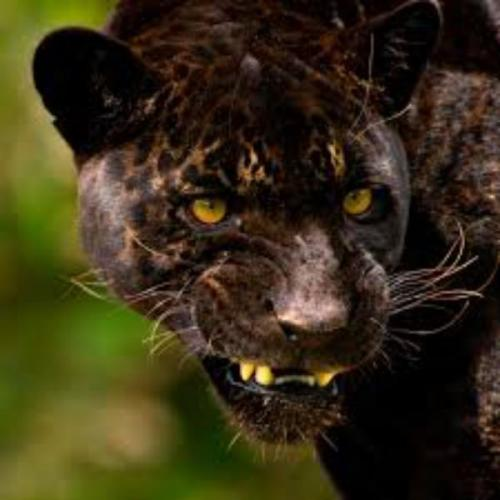panther-endangered: (37, 0, 497, 496)
